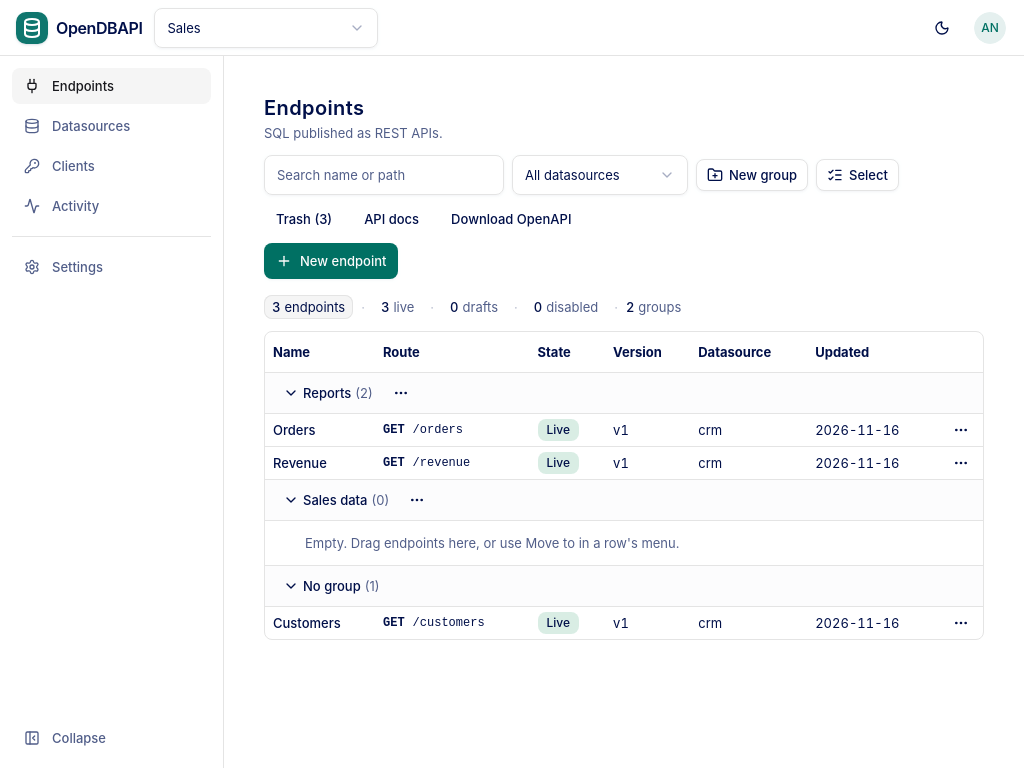
Scenario: Endpoint groups › collapses a group and remembers it
The width and height of the screenshot is (1024, 768).
Later steps or results of the test are not shown.
Check: the link "Orders" is shown, box [273, 422, 316, 438]
Click the button "Reports (2)" at (328, 392), box [273, 378, 383, 406]
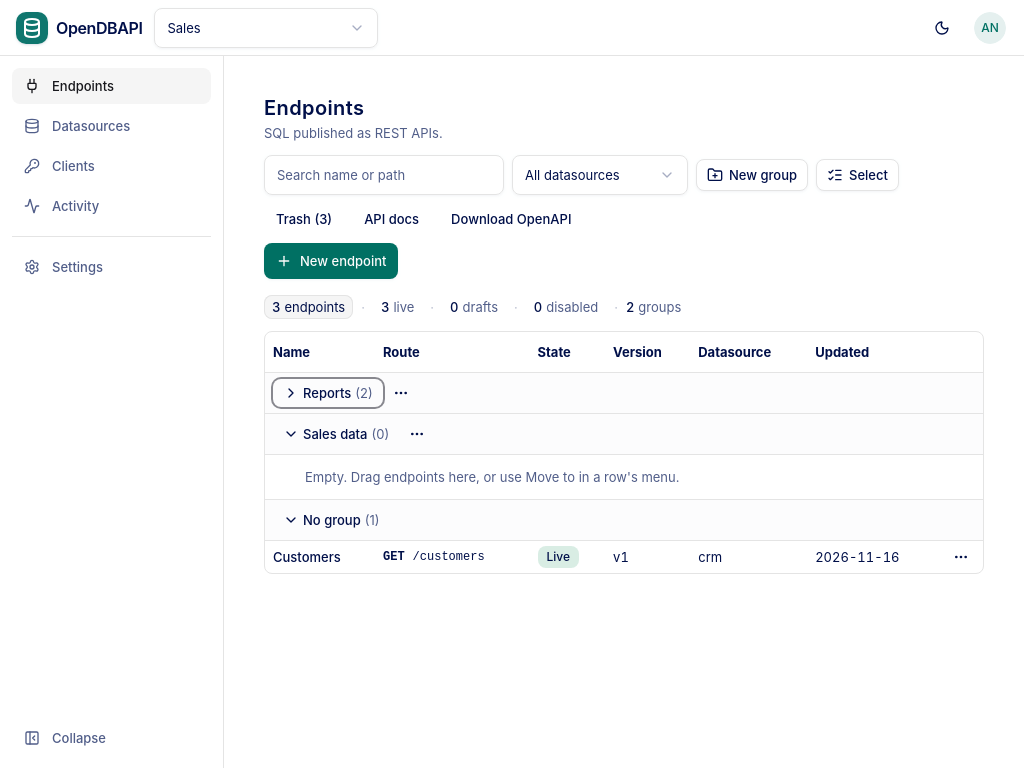
Check: the link "Customers" is shown, box [273, 548, 341, 564]
Check: the link "Orders" is gone
